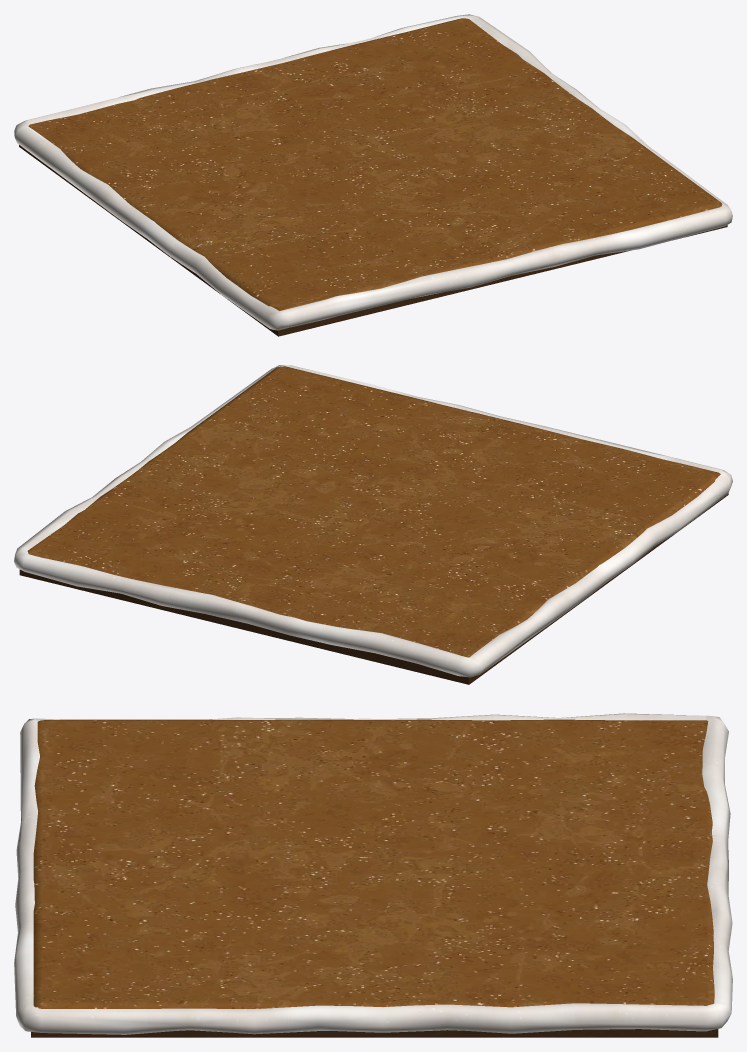
File: floor.gingerbread.glb
The picture shows the model from 3 angles, top to bottom: view 1: azimuth 30°, elevation 25°; view 2: azimuth 150°, elevation 25°; view 3: azimuth 270°, elevation 25°; orthographic projection. The views are drawn at different scales.
Parts seen in each view (by area): view 1: floor_LOD0; view 2: floor_LOD0; view 3: floor_LOD0.
Part boxes in pixels (bbox=[...]): floor_LOD0: bbox=[14, 14, 732, 336]; floor_LOD0: bbox=[14, 365, 732, 684]; floor_LOD0: bbox=[14, 713, 732, 1037].
Size of the model in its own units: 3.13 by 0.1732 by 3.14.
Materials: 3 (3 with a texture image).
